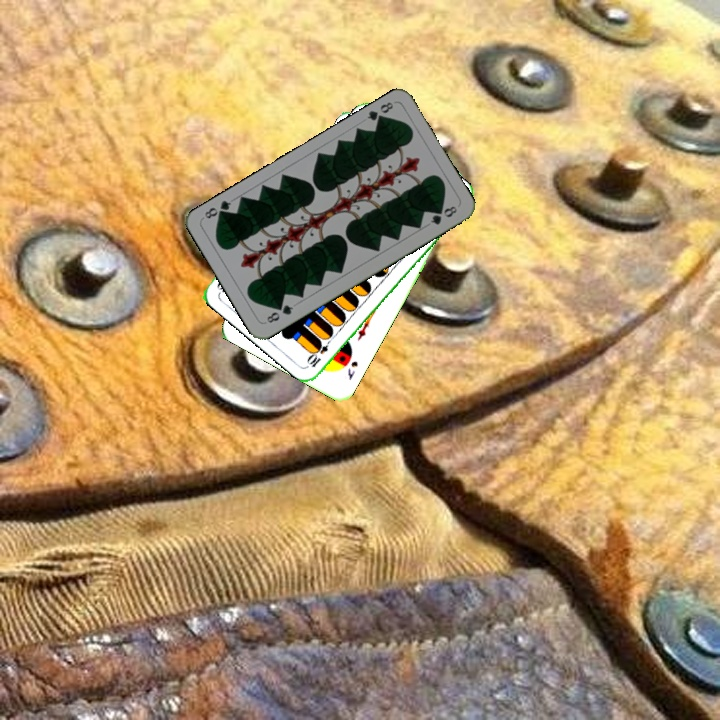E10: (304, 333, 335, 370)
G8: (363, 98, 396, 126), (262, 300, 296, 326)
SK: (343, 357, 361, 383)
